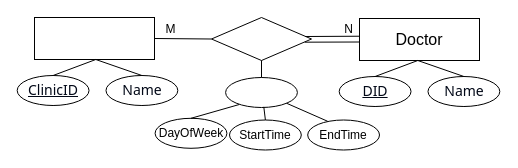
The diagram is 518 pixels wide and 168 high, and some of its shapes have lost their labels. Each missing label, with the centre of its shape:
"Clinic" belongs at pixel 94 38.
"Schedule" belongs at pixel 261 92.
"works_at" belongs at pixel 261 38.
